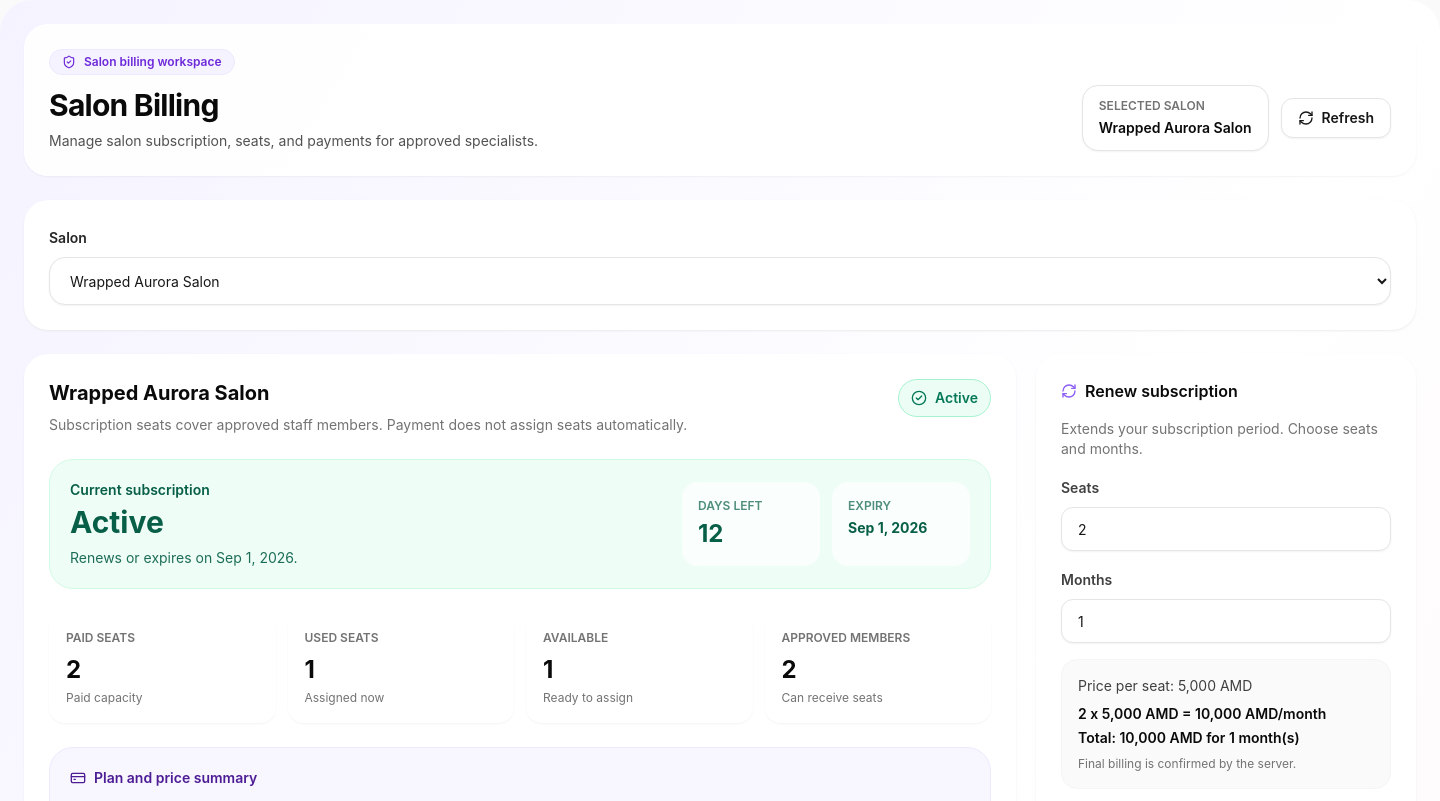
Scenario: SalonBillingPage › keeps wrapped salon names and normalized renewal totals intact
The image size is (1440, 801).
Expected: the heading "Wrapped Aurora Salon" is shown, [49,381,269,405]
Replace the text in the number field labelled "Months" with "03" at (1226, 621), box [1061,599,1391,643]
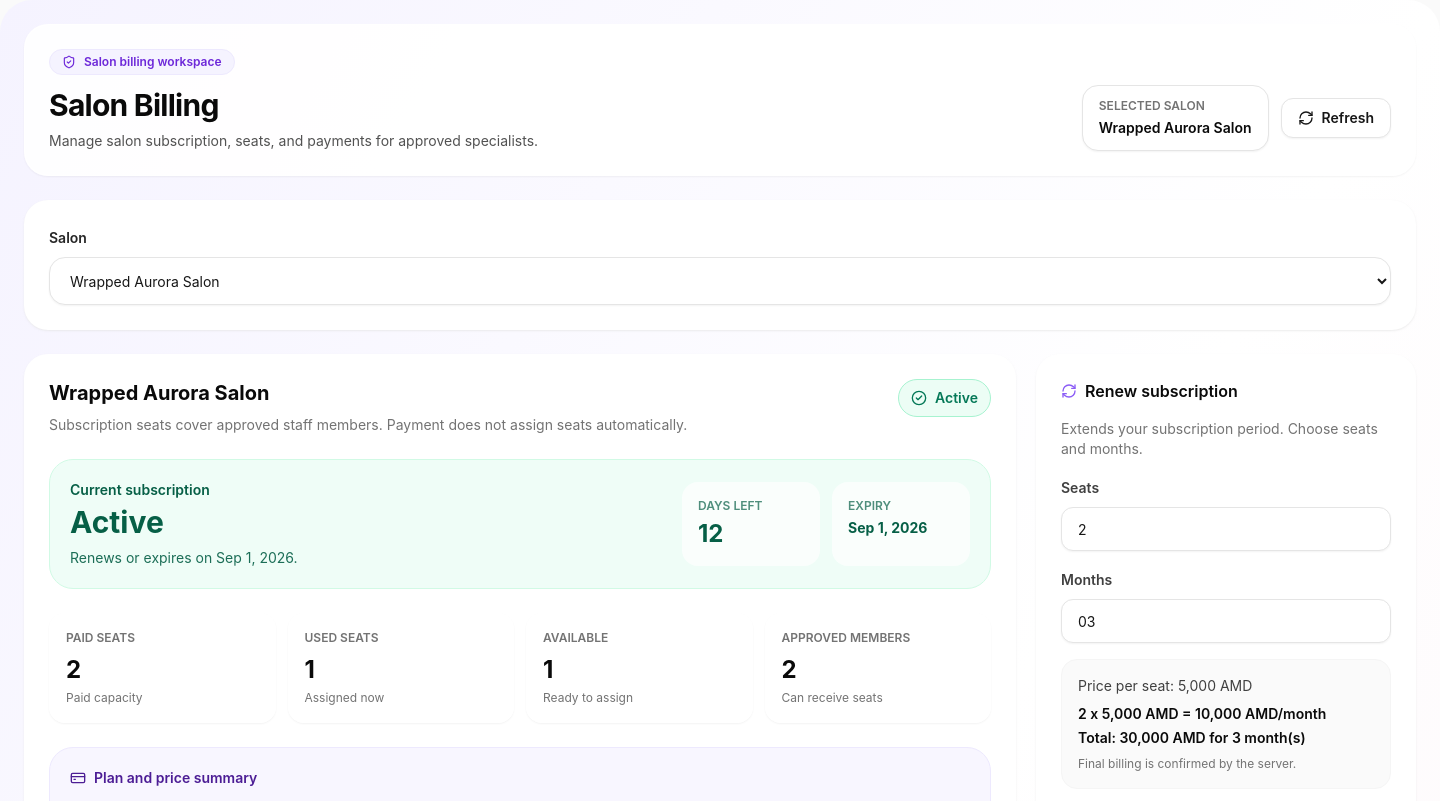
Now the text "Total: 30,000 AMD for 3 month(s)" is shown, box [1078,729,1306,746]
